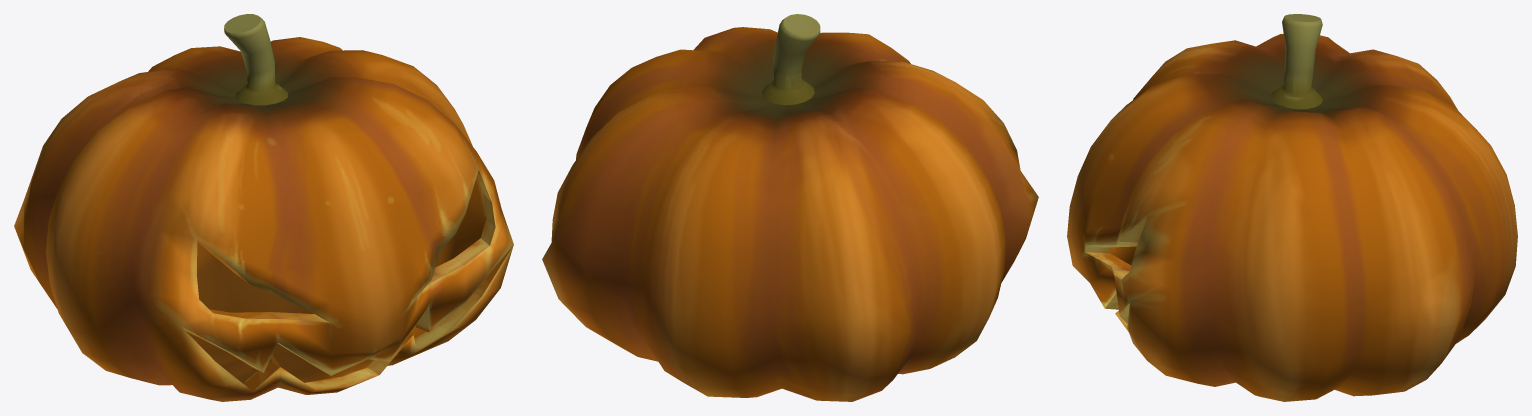
File: halloween_pumpkin.glb
3 renders of one model, left to right at view 1: azimuth 30°, elevation 25°; view 2: azimuth 150°, elevation 25°; view 3: azimuth 270°, elevation 25°, orthographic. The views are drawn at different scales.
Visible parts, largest first — view 1: Sphere, Circle; view 2: Sphere, Circle; view 3: Sphere, Circle.
Part boxes in pixels (left/top/right/bottom): Sphere: left=14, top=37, right=513, bottom=401; Circle: left=224, top=14, right=288, bottom=105; Sphere: left=542, top=27, right=1038, bottom=401; Circle: left=762, top=14, right=820, bottom=105; Sphere: left=1067, top=33, right=1517, bottom=401; Circle: left=1270, top=14, right=1322, bottom=109.
Size of the model in its own units: 212 by 169 by 204.
2 materials, 2 textured.
